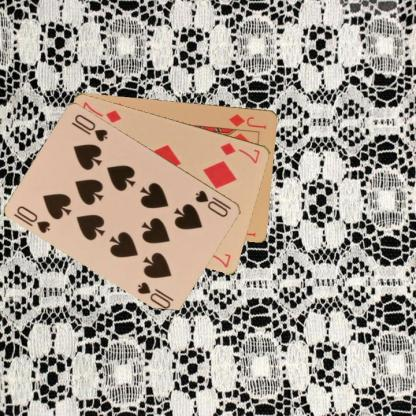10s: (192, 188, 233, 218), (14, 202, 52, 234)
7d: (218, 140, 262, 164)
Jd: (227, 111, 268, 130)
